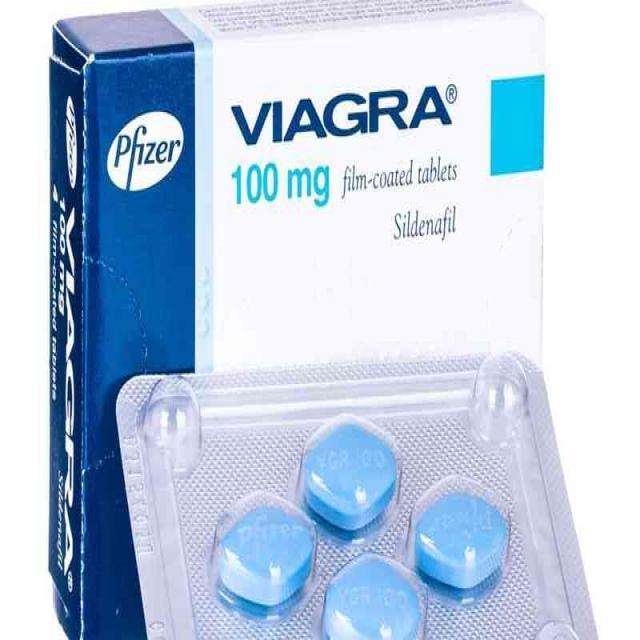drug-name: (226, 78, 457, 148)
